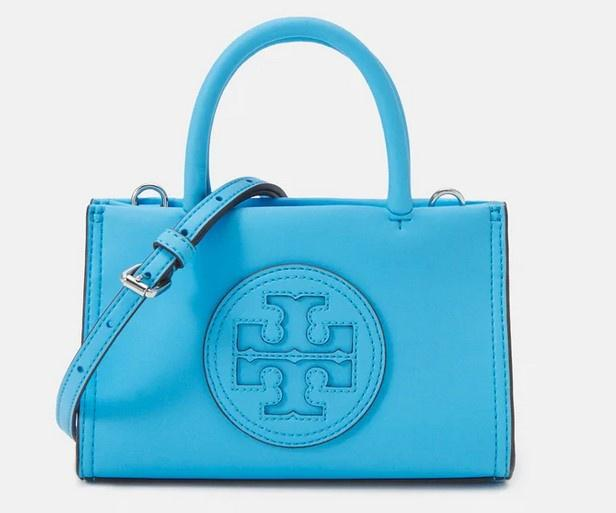TORY-BURCH: (202, 263, 387, 448)
